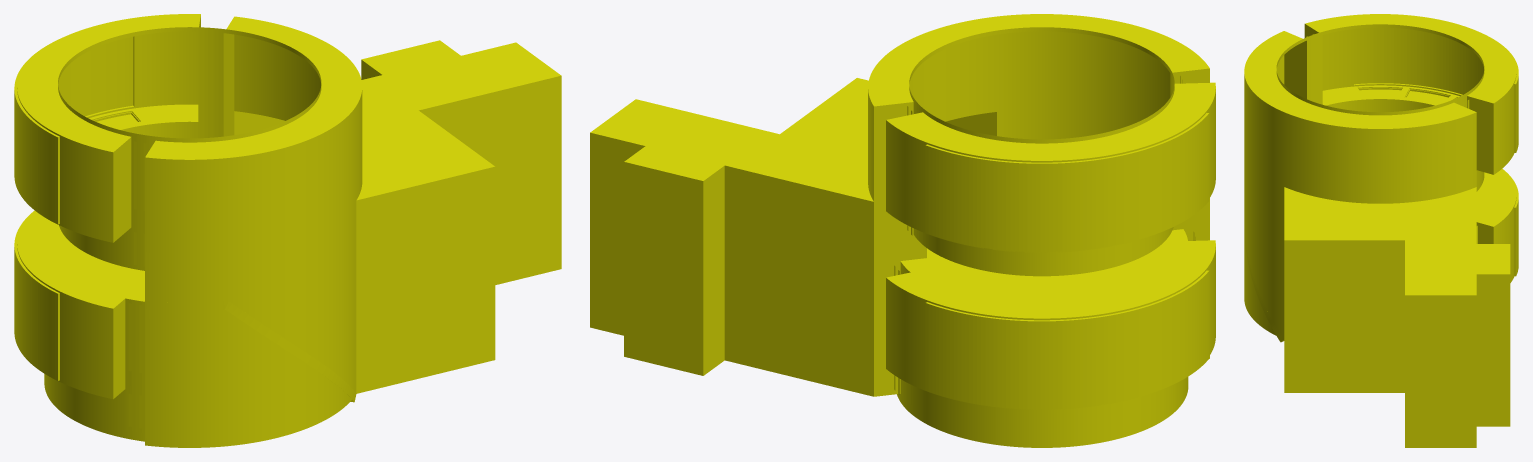
Rendered from mr009col001s001.fbx.
3 views of the same model, side by side, from view 1: azimuth 30°, elevation 25°; view 2: azimuth 150°, elevation 25°; view 3: azimuth 270°, elevation 25° (orthographic). The views are drawn at different scales.
Visible parts, largest first — view 1: mr009col001s001op001, mr009col001s001op002, mr009efcol001s001op001; view 2: mr009col001s001op001; view 3: mr009col001s001op001, mr009col001s001op002.
Part boxes in pixels (left/top/right/bottom): mr009col001s001op001: left=14, top=14, right=561, bottom=447; mr009col001s001op002: left=145, top=300, right=356, bottom=402; mr009efcol001s001op001: left=128, top=141, right=146, bottom=428; mr009col001s001op001: left=590, top=14, right=1215, bottom=447; mr009col001s001op001: left=1244, top=14, right=1518, bottom=447; mr009col001s001op002: left=1244, top=224, right=1284, bottom=342.
Bounding box in the file's own units: 857 × 456 × 479.
